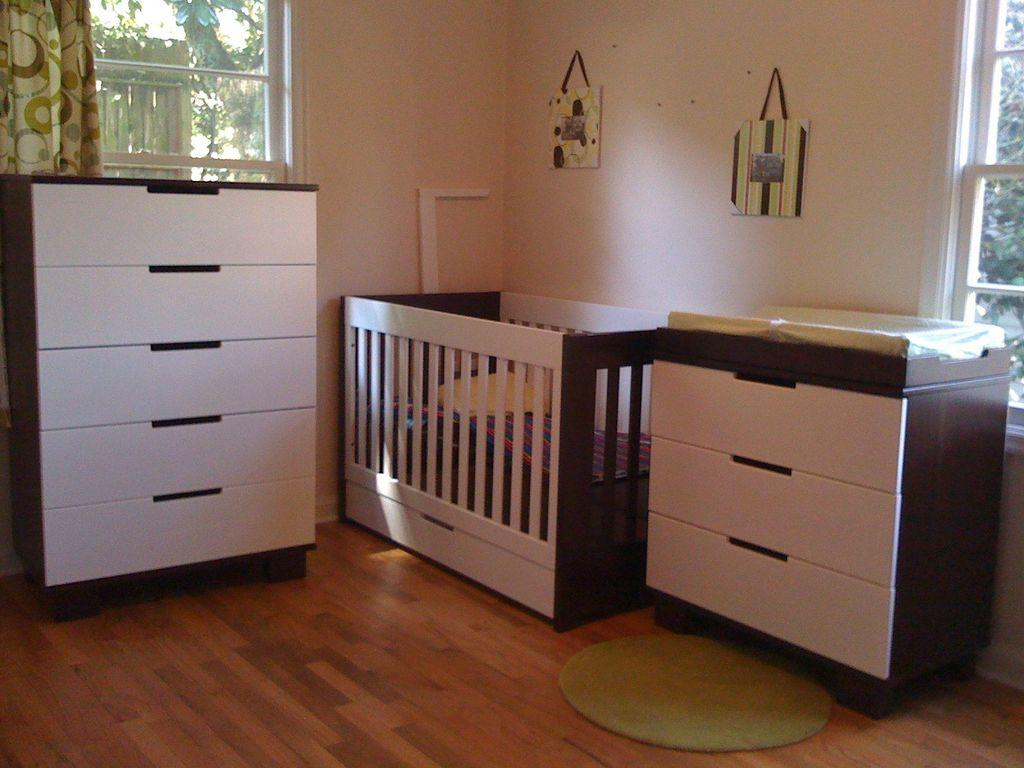cabinet_door: (634, 506, 908, 634), (644, 428, 914, 554), (653, 349, 913, 464), (50, 472, 316, 566), (40, 186, 318, 264), (34, 264, 314, 338), (41, 338, 317, 411), (44, 424, 312, 488)
handle: (726, 532, 788, 570), (728, 450, 792, 482), (146, 481, 222, 507), (733, 368, 801, 394), (144, 180, 222, 202), (146, 336, 224, 356), (152, 409, 225, 430), (142, 262, 224, 280)
